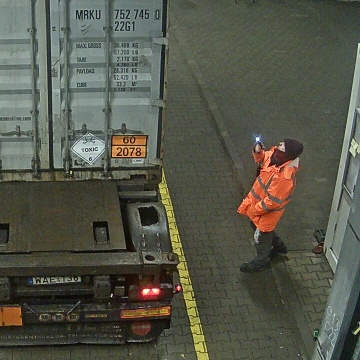serial_id: (75, 9, 160, 19)
